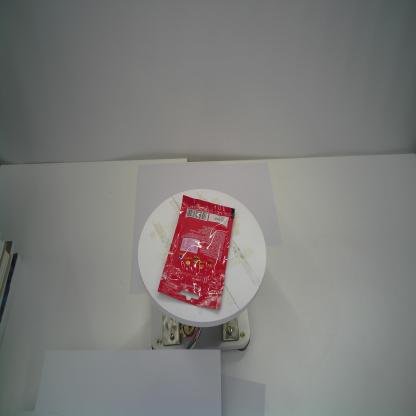Candy: (157, 192, 235, 311)
